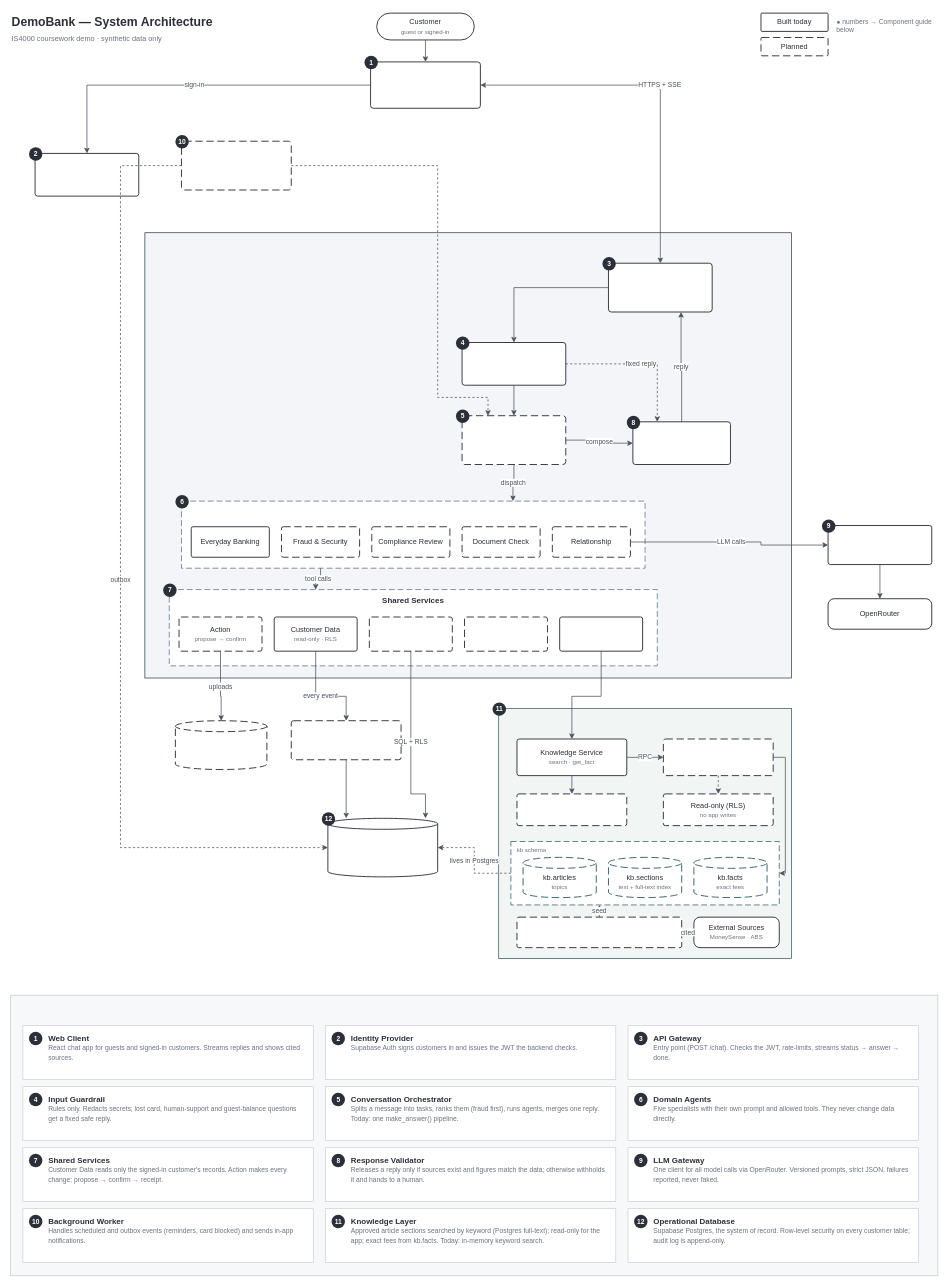
Some shapes in this 950 by 1286 pixel diagram are drawn without their labels. Each missing label, with the box of its shape:
API Gateway JWT · rate limit · SSE: (608, 262, 712, 312)
Audit Log append-only: (291, 720, 401, 760)
Authorisation & Consent: (369, 616, 452, 651)
Backend API — one FastAPI process: (144, 232, 792, 678)
Background Worker outbox · reminders: (181, 140, 291, 190)
Component guide: (10, 995, 938, 1276)
Content Pipeline git migrations only: (516, 916, 682, 948)
Conversation Orchestrator plan · dispatch · compose: (461, 415, 566, 465)
Document Storage: (175, 720, 267, 770)
Domain Agents: (181, 500, 645, 568)
Identity Provider Supabase Auth: (34, 153, 139, 196)
Input Guardrail rules only, no LLM: (461, 342, 566, 385)
Keyword Search Postgres full-text: (663, 738, 773, 776)
Knowledge Layer — keyword RAG: (498, 708, 792, 959)
Knowledge search · facts: (559, 616, 643, 651)
LLM Gateway prompts · strict JSON: (827, 525, 932, 565)
No-match Fallback whole small library: (516, 793, 627, 826)
Notification in-app inbox: (464, 616, 548, 651)
Operational Database Postgres + RLS: (327, 818, 438, 877)
Response Validator sources · figures: (632, 421, 731, 465)
Web Client chat · sources · inbox: (370, 61, 481, 108)
